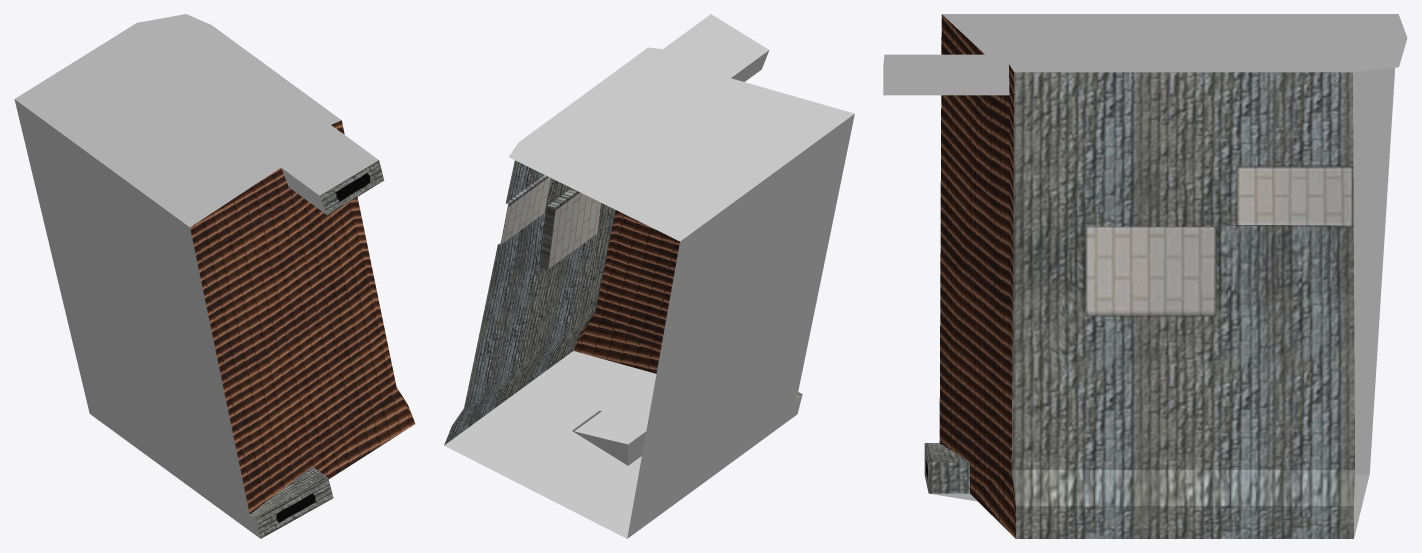
The model's file is Toompuiestee_18e_2-origo.obj.
3 renders of one model, left to right at view 1: azimuth 30°, elevation 25°; view 2: azimuth 150°, elevation 25°; view 3: azimuth 270°, elevation 25°, orthographic. The views are drawn at different scales.
Visible parts, largest first — view 1: Toompuiestee_18e_2; view 2: Toompuiestee_18e_2; view 3: Toompuiestee_18e_2.
Boxes of the visible parts, x1,y1,x2,y2 form: Toompuiestee_18e_2: [14, 14, 415, 538]; Toompuiestee_18e_2: [444, 14, 854, 538]; Toompuiestee_18e_2: [883, 14, 1407, 538].
Bounding box in the file's own units: 6.19 × 8.5 × 8.49.
